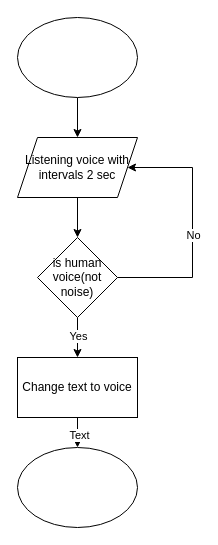
Image size: 218x545. Some labels were removed from this diagram. Here are the shapes that lost their labels. From the top down, the box of each, then its label:
(16, 16, 138, 98): start
(16, 446, 138, 528): return text
